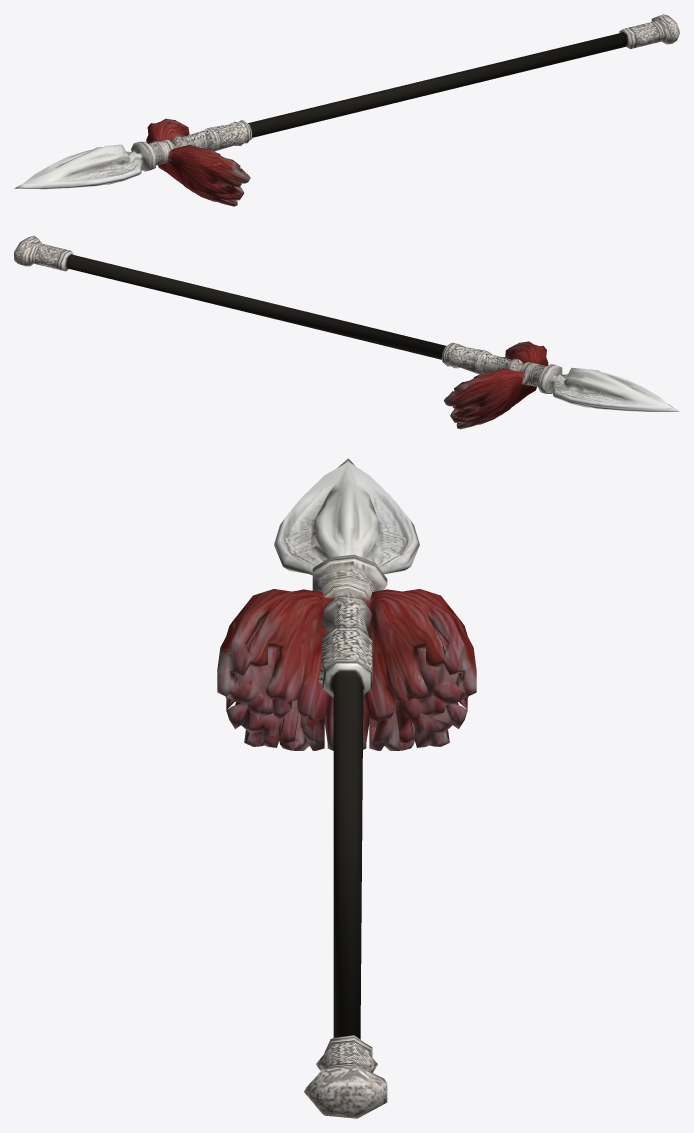
Rendered from zhaoyun_spear.glb.
3 renders of one model, top to bottom at view 1: azimuth 30°, elevation 25°; view 2: azimuth 150°, elevation 25°; view 3: azimuth 270°, elevation 25°, orthographic. The views are drawn at different scales.
Visible parts, largest first — view 1: tripo_node_50358e35-c42f-4410-a975-c4d56f960745; view 2: tripo_node_50358e35-c42f-4410-a975-c4d56f960745; view 3: tripo_node_50358e35-c42f-4410-a975-c4d56f960745.
Boxes of the visible parts, box(x1,y1,x2,y2) form: tripo_node_50358e35-c42f-4410-a975-c4d56f960745: box(14, 14, 679, 206); tripo_node_50358e35-c42f-4410-a975-c4d56f960745: box(14, 235, 679, 429); tripo_node_50358e35-c42f-4410-a975-c4d56f960745: box(217, 458, 476, 1118).
Bounding box in the file's own units: 0.998 × 0.1035 × 0.1699.
1 material, 1 textured.
